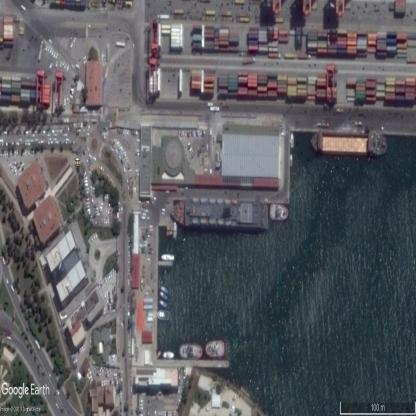ship: (171, 200, 268, 231), (309, 133, 388, 157), (178, 339, 203, 361), (205, 339, 227, 359), (270, 204, 288, 224), (160, 250, 175, 262), (157, 308, 169, 322), (162, 350, 175, 360), (290, 132, 294, 149)
